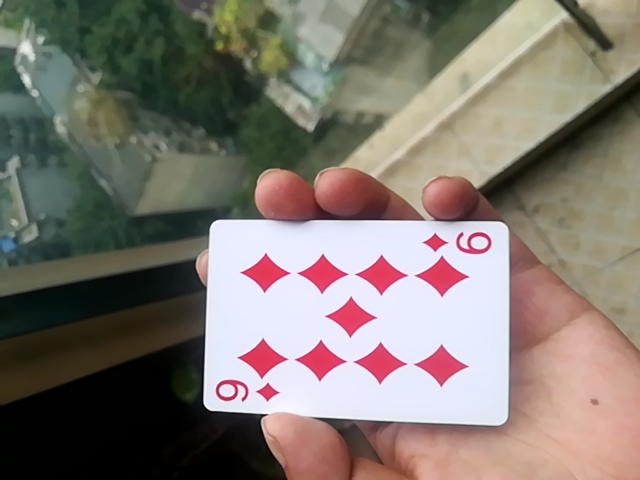fk 9: (196, 216, 513, 427)
